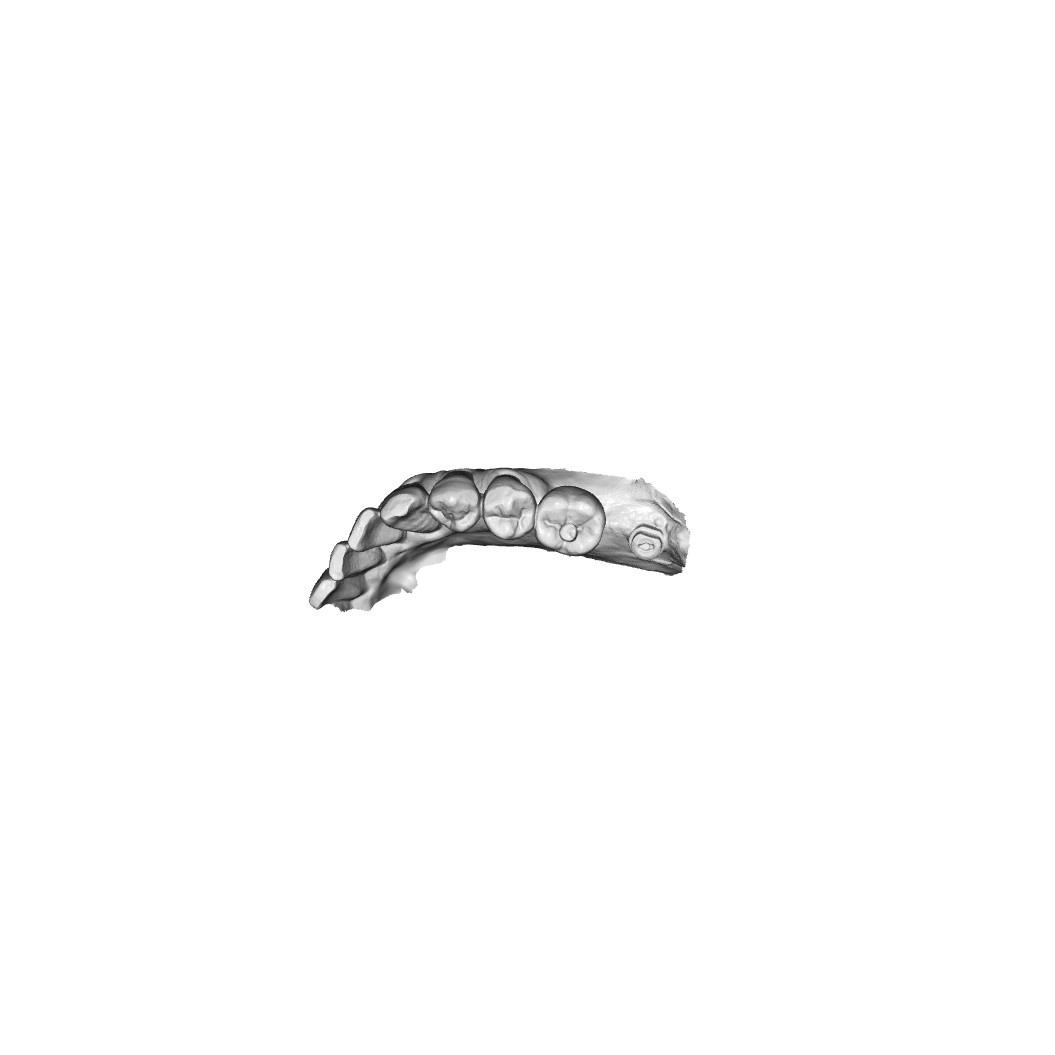canine: (378, 484, 442, 543)
implant_minus: (625, 522, 672, 558)
incisor: (348, 507, 398, 548), (332, 545, 387, 579)
molar: (538, 488, 606, 560)
premolar: (485, 479, 539, 545), (432, 475, 477, 530)
